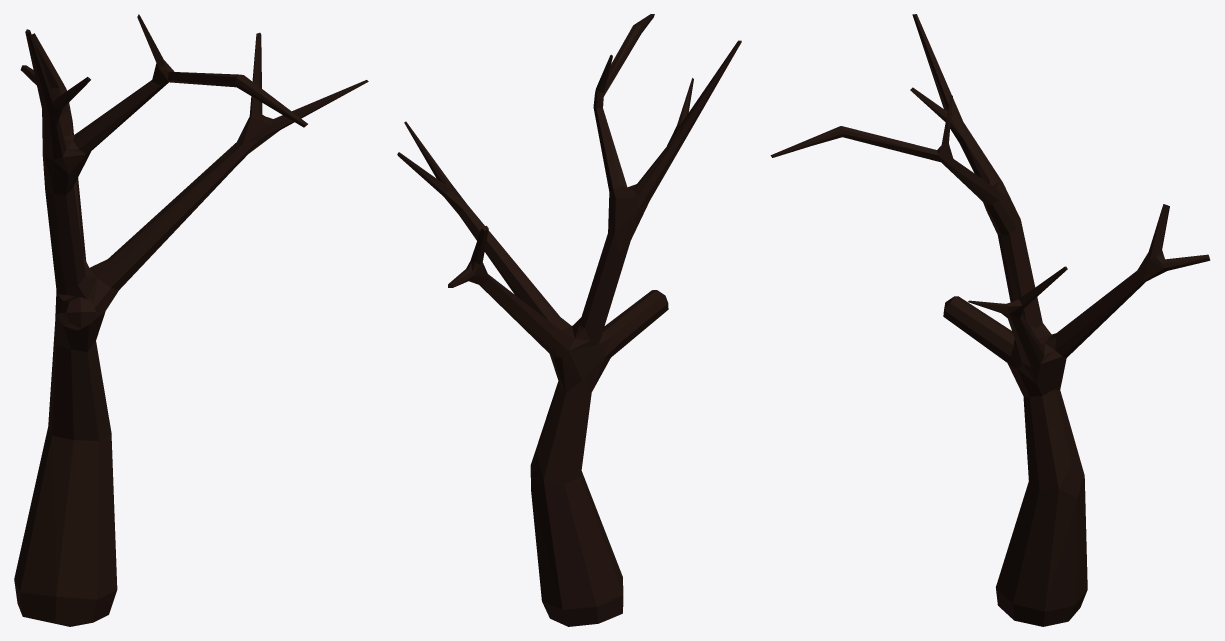
The model's file is SM_Tree11.fbx.
3 renders of one model, left to right at view 1: azimuth 30°, elevation 25°; view 2: azimuth 150°, elevation 25°; view 3: azimuth 270°, elevation 25°, orthographic. The views are drawn at different scales.
Parts seen in each view (by area): view 1: Tree10; view 2: Tree10; view 3: Tree10.
Boxes of the visible parts, x1,y1,x2,y2 form: Tree10: (14,14,368,626); Tree10: (397,14,741,626); Tree10: (770,14,1210,626).
Size of the model in its own units: 182 by 310 by 222.
